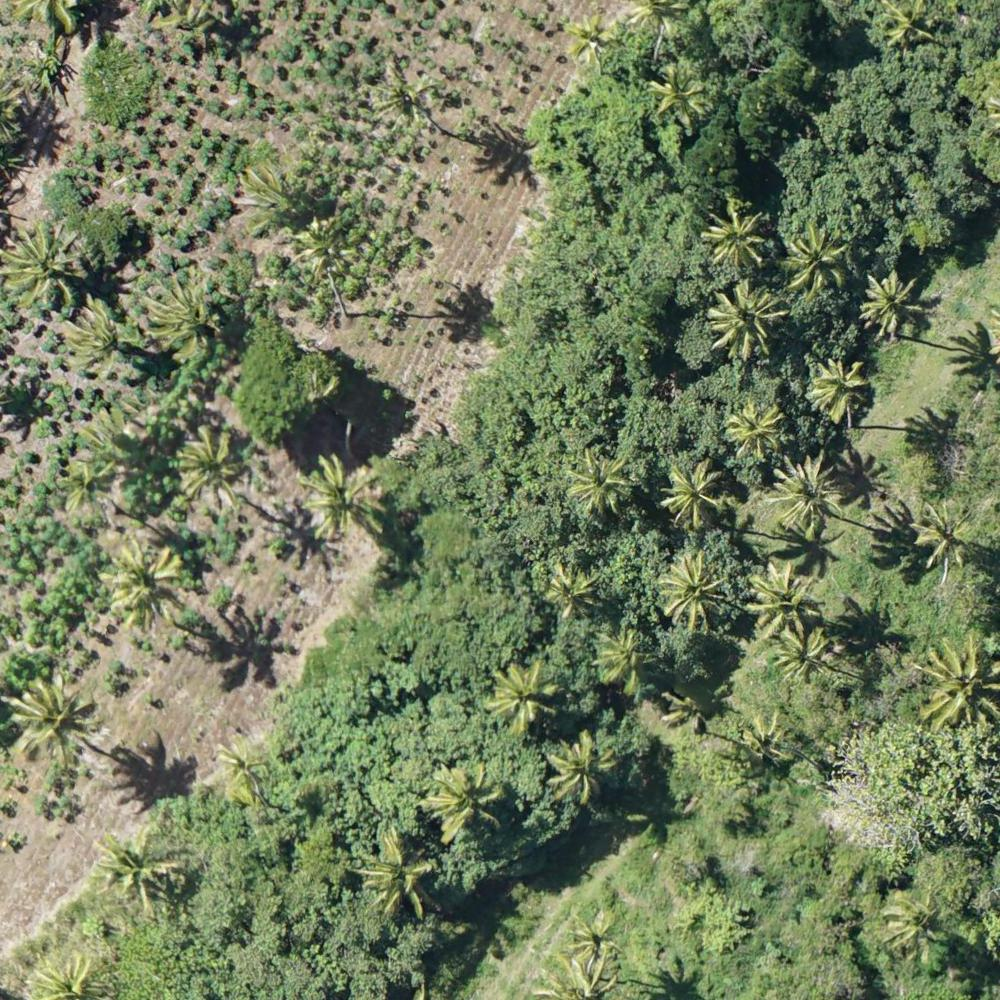Palm: (99, 536, 189, 638), (921, 633, 1000, 736), (8, 676, 90, 766), (300, 452, 380, 535), (356, 830, 431, 916), (4, 224, 79, 309), (421, 762, 499, 840), (706, 284, 782, 363), (93, 830, 168, 910), (768, 455, 846, 530), (141, 272, 213, 350), (750, 562, 819, 635), (545, 735, 615, 805), (178, 430, 243, 505), (488, 661, 558, 728), (879, 893, 948, 960), (661, 556, 723, 630), (699, 205, 766, 273), (662, 461, 729, 528), (802, 356, 869, 422), (914, 497, 979, 565), (63, 298, 122, 371), (859, 271, 923, 338), (372, 63, 436, 128), (787, 227, 850, 292), (213, 736, 272, 805), (570, 450, 635, 512), (287, 224, 354, 284), (58, 452, 118, 517), (772, 623, 833, 684), (593, 629, 651, 689), (724, 404, 787, 458), (652, 64, 707, 121), (566, 915, 621, 971), (564, 13, 616, 66), (547, 564, 601, 615)
